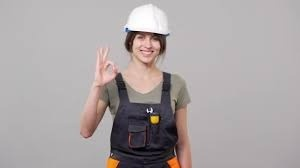helmet: (124, 4, 171, 37)
person with partial safety: (91, 4, 194, 166)
